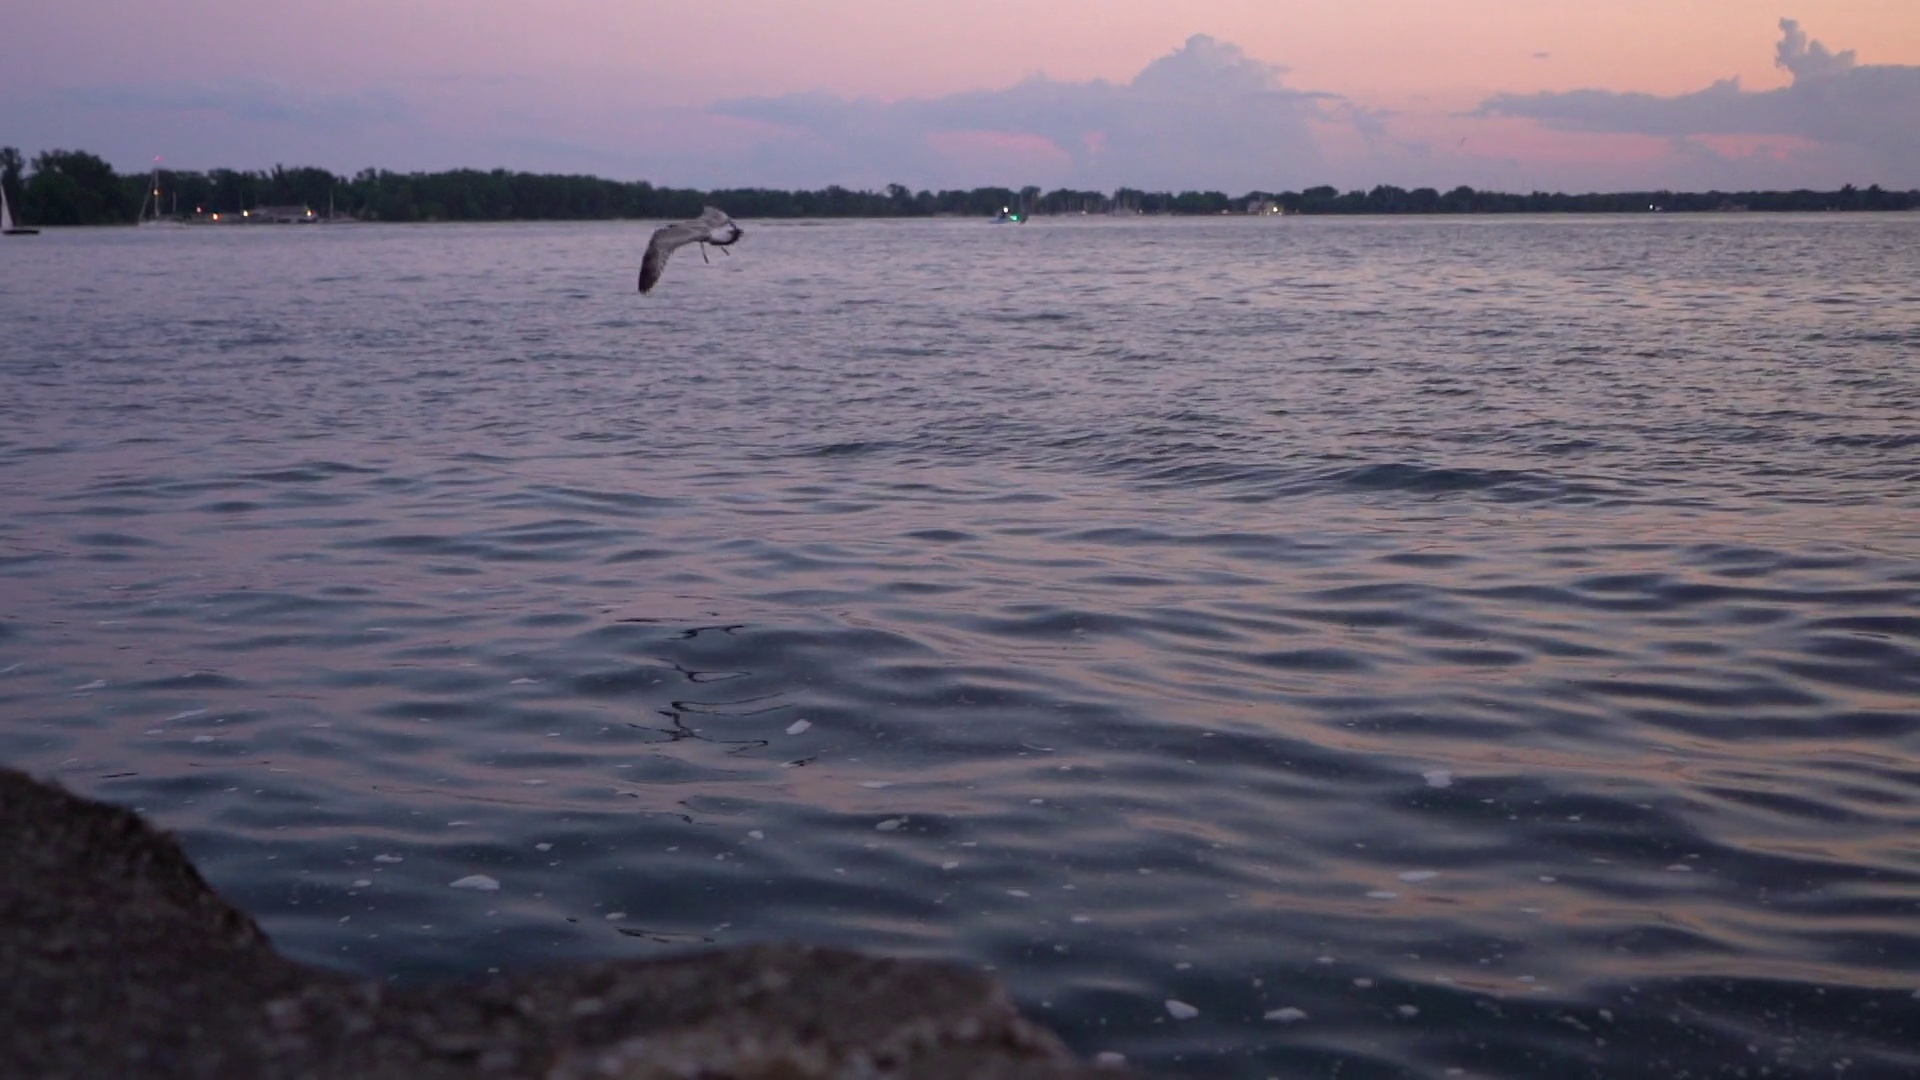bird: (636, 204, 741, 294)
